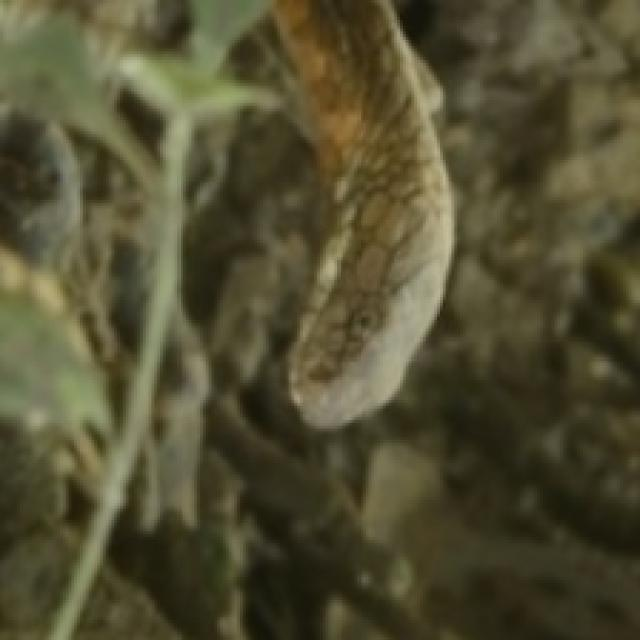king cobra: (0, 3, 269, 429), (271, 0, 451, 426)
